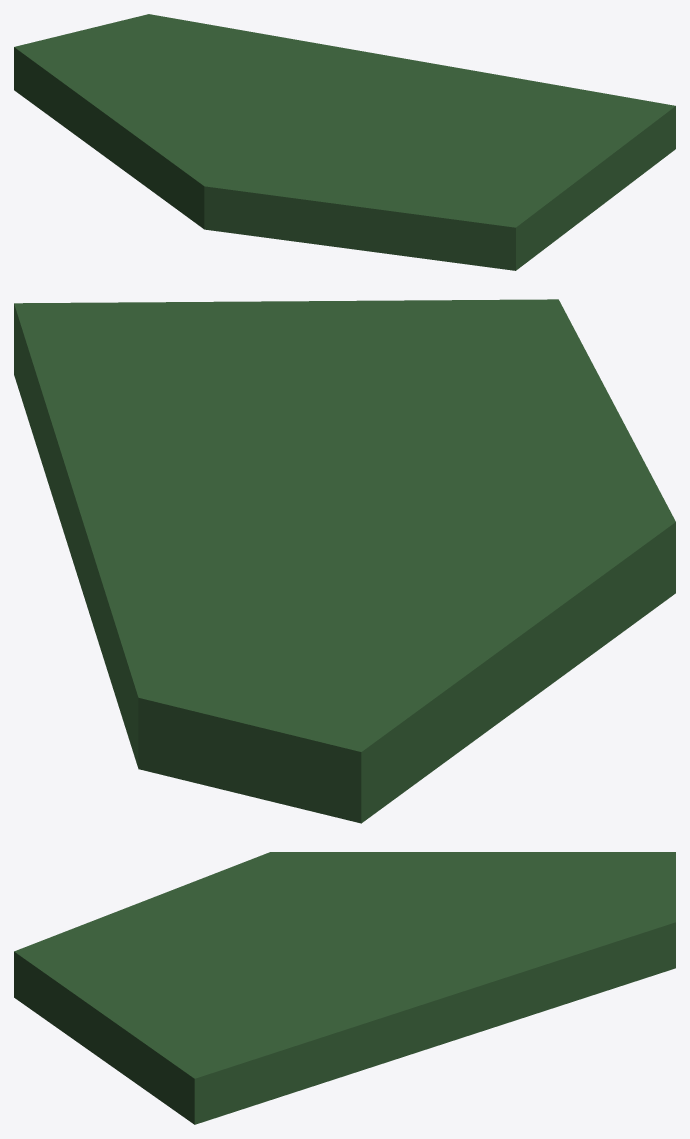
File: x_proval_00_165_1_rmstrd.fbx
The picture shows the model from 3 angles, top to bottom: view 1: azimuth 30°, elevation 25°; view 2: azimuth 150°, elevation 25°; view 3: azimuth 270°, elevation 25°; orthographic projection. The views are drawn at different scales.
Visible parts, largest first — view 1: x_proval_00_165_1_rmstrd1; view 2: x_proval_00_165_1_rmstrd1; view 3: x_proval_00_165_1_rmstrd1.
Boxes of the visible parts, x1,y1,x2,y2 form: x_proval_00_165_1_rmstrd1: (14, 14, 675, 270); x_proval_00_165_1_rmstrd1: (14, 299, 675, 823); x_proval_00_165_1_rmstrd1: (14, 852, 675, 1124).
Bounding box in the file's own units: 2.11 × 0.2 × 2.6.
